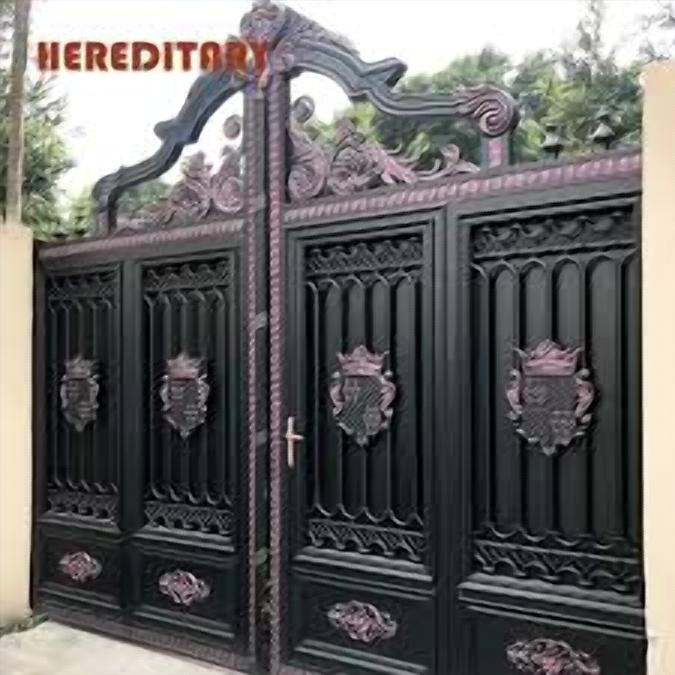Gate: (28, 0, 648, 675)
